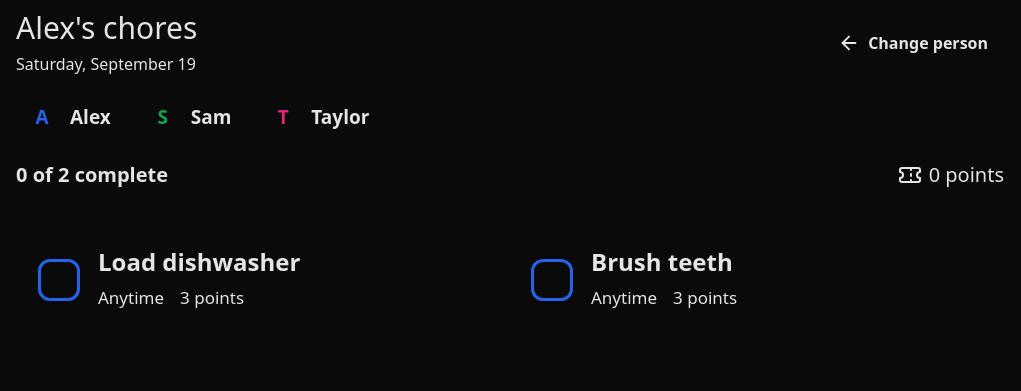
Test case: PersonChoresView › shows a failed save, leaves completion unchanged, and permits a retry
This screenshot has width=1021, height=391.
Click the button "Load dishwasher Anytime 3 points" at (258, 280), box [20,228,497,332]
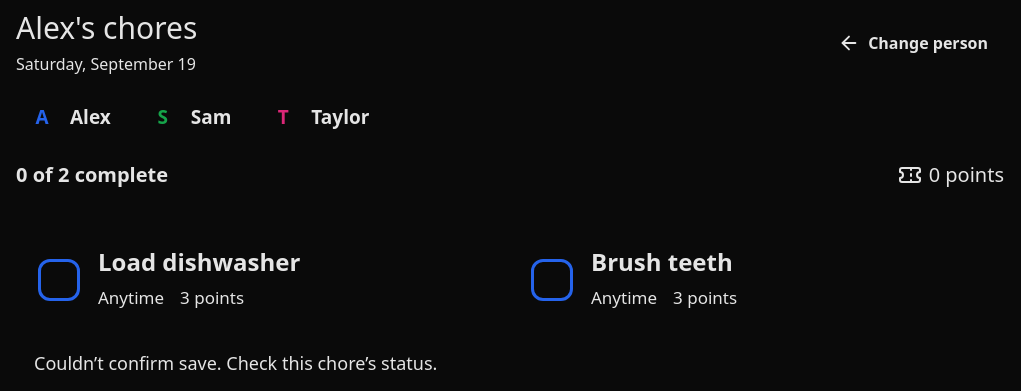
Check: the message reads "Couldn’t confirm save. Check this chore’s status.", box [34,350,437,374]
Click the button "Load dishwasher Anytime 3 points" at (258, 280), box [20,228,497,332]
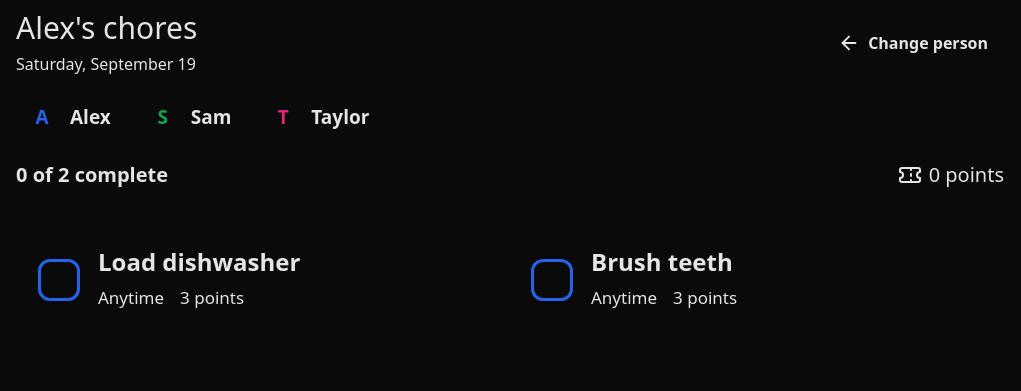
Check: the message "Couldn’t confirm save. Check this chore’s status." is gone
